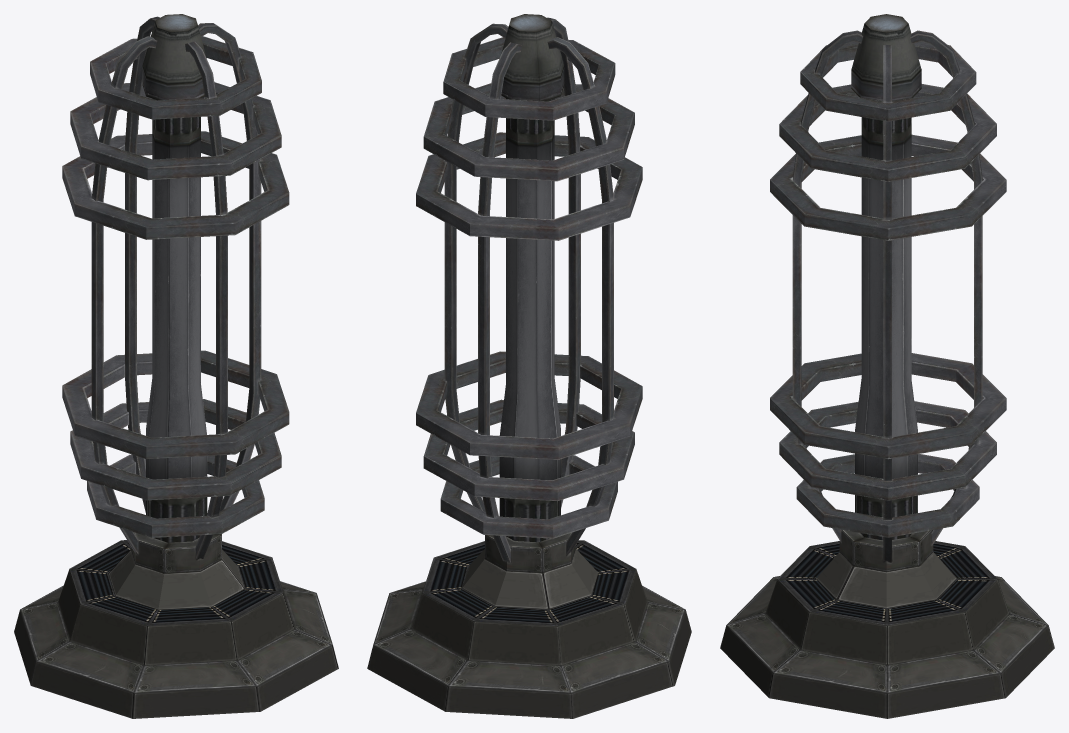
Rendered from Tesla_Coil_Tower_fbx.FBX.
3 renders of one model, left to right at view 1: azimuth 30°, elevation 25°; view 2: azimuth 150°, elevation 25°; view 3: azimuth 270°, elevation 25°, orthographic.
Parts seen in each view (by area): view 1: Tesla_coil; view 2: Tesla_coil; view 3: Tesla_coil.
Boxes of the visible parts, left/top/right/bottom form: Tesla_coil: left=14, top=14, right=338, bottom=718; Tesla_coil: left=367, top=14, right=691, bottom=718; Tesla_coil: left=720, top=14, right=1054, bottom=718.
Size of the model in its own units: 76.35 by 157 by 76.35.
